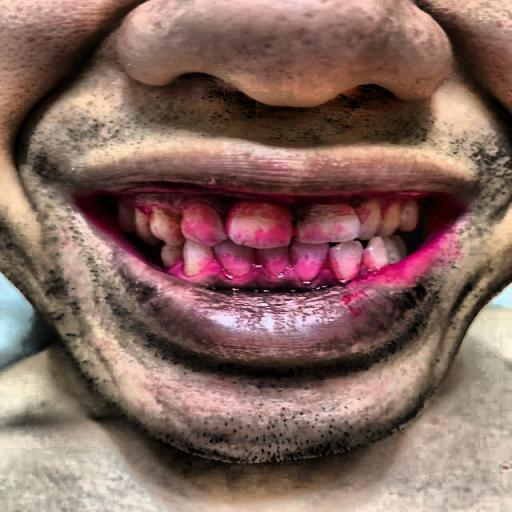Plaque: (102, 170, 424, 284)
